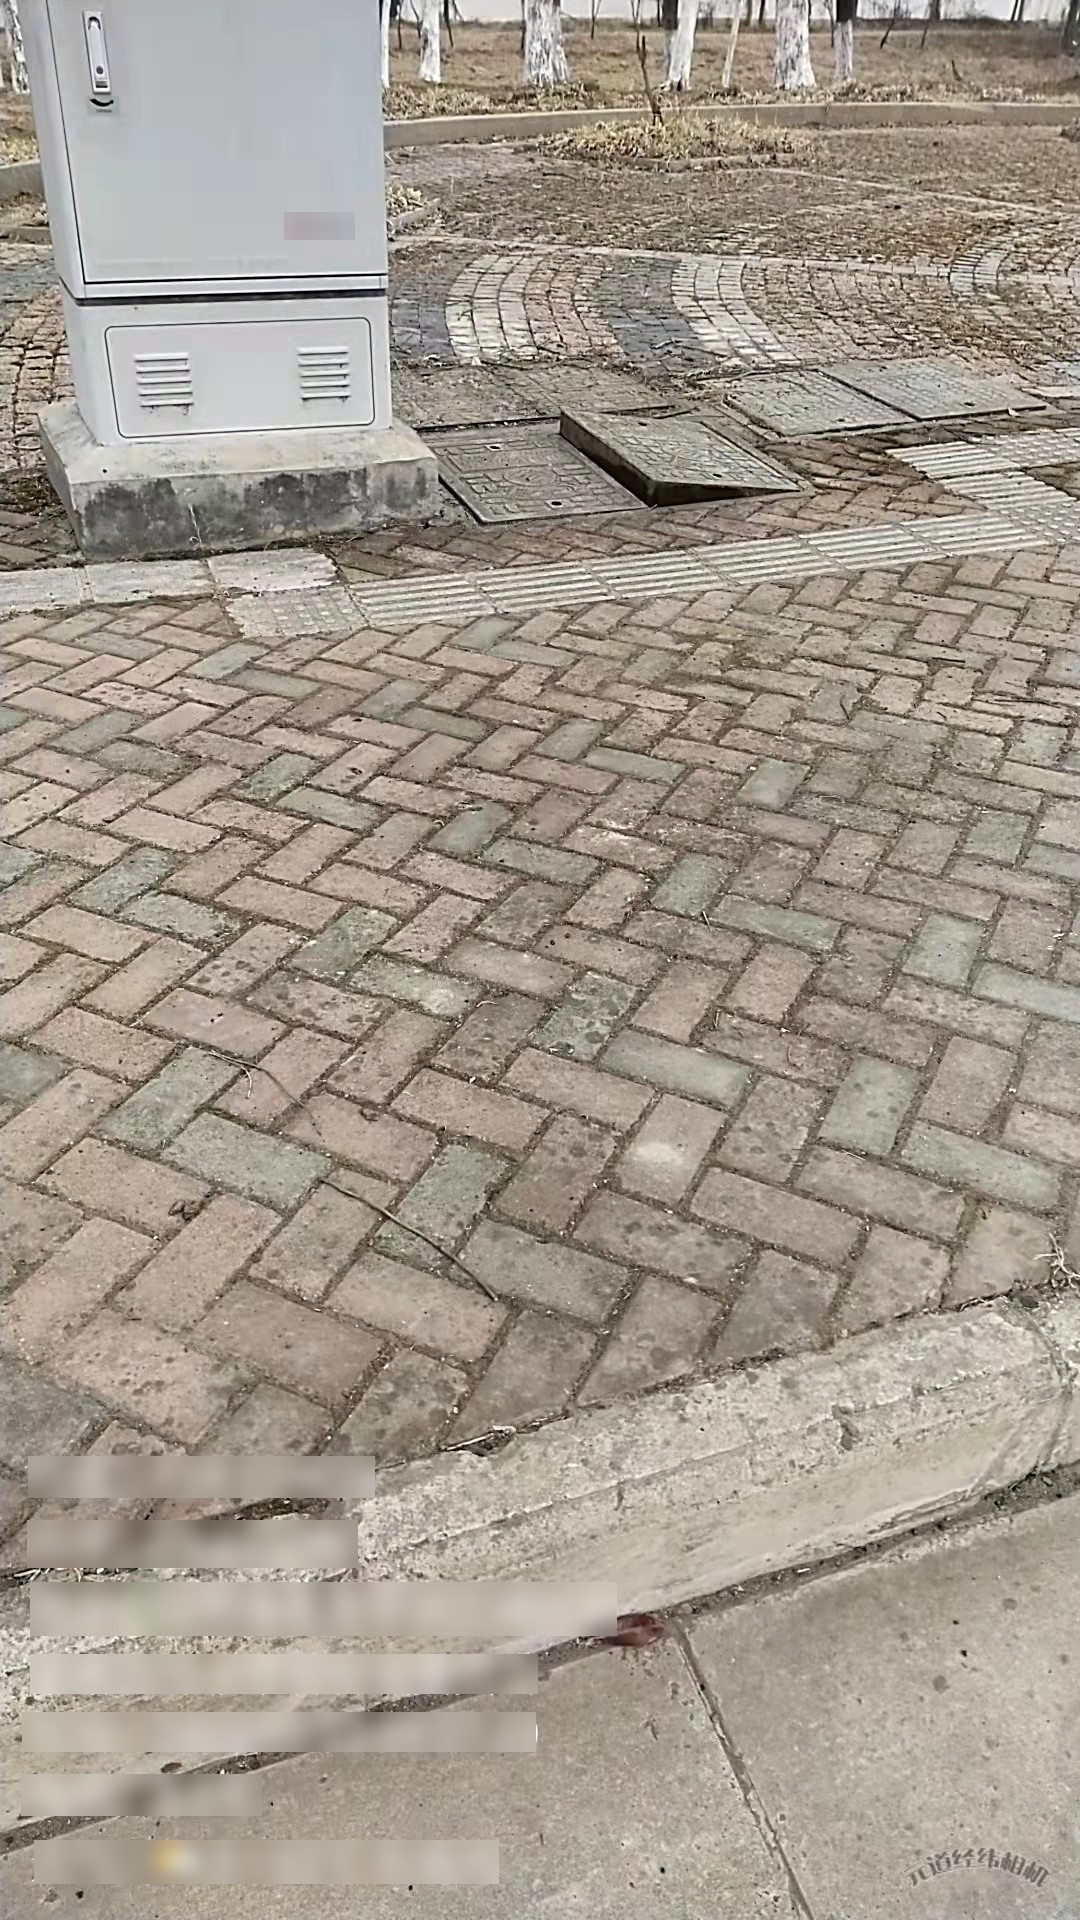good: (695, 353, 1080, 458)
uncovered: (413, 406, 811, 525)
